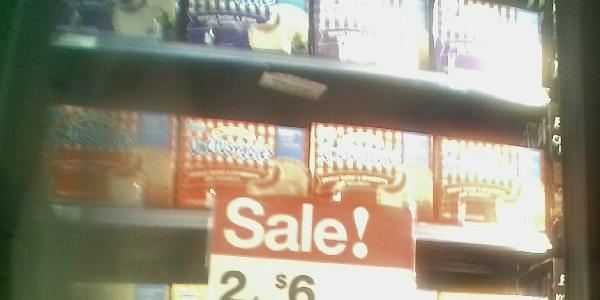icecream: (29, 106, 175, 211), (173, 116, 311, 217), (309, 119, 438, 226), (437, 133, 548, 238)
